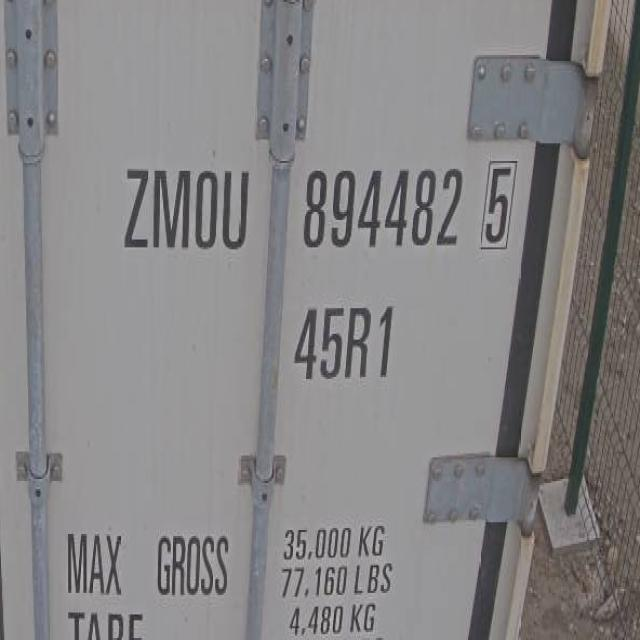dv: (473, 152, 517, 254)
owner: (117, 152, 254, 265)
serial: (298, 154, 464, 262)
size: (288, 287, 400, 397)
